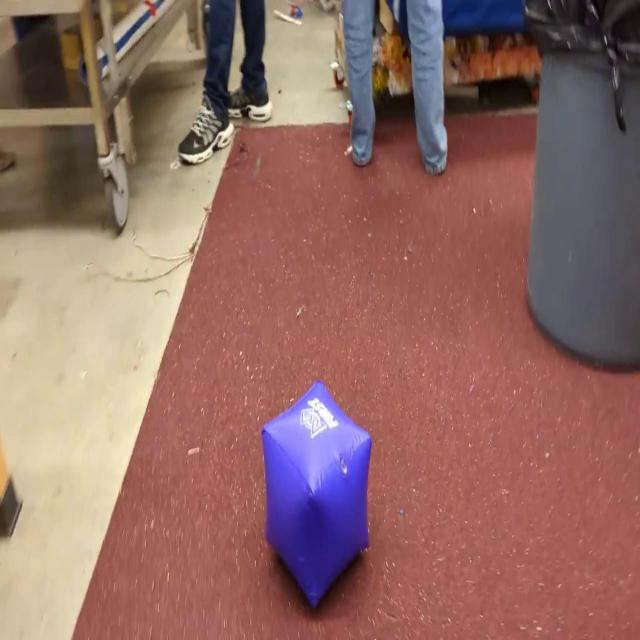frc_cube: (261, 377, 373, 612)
